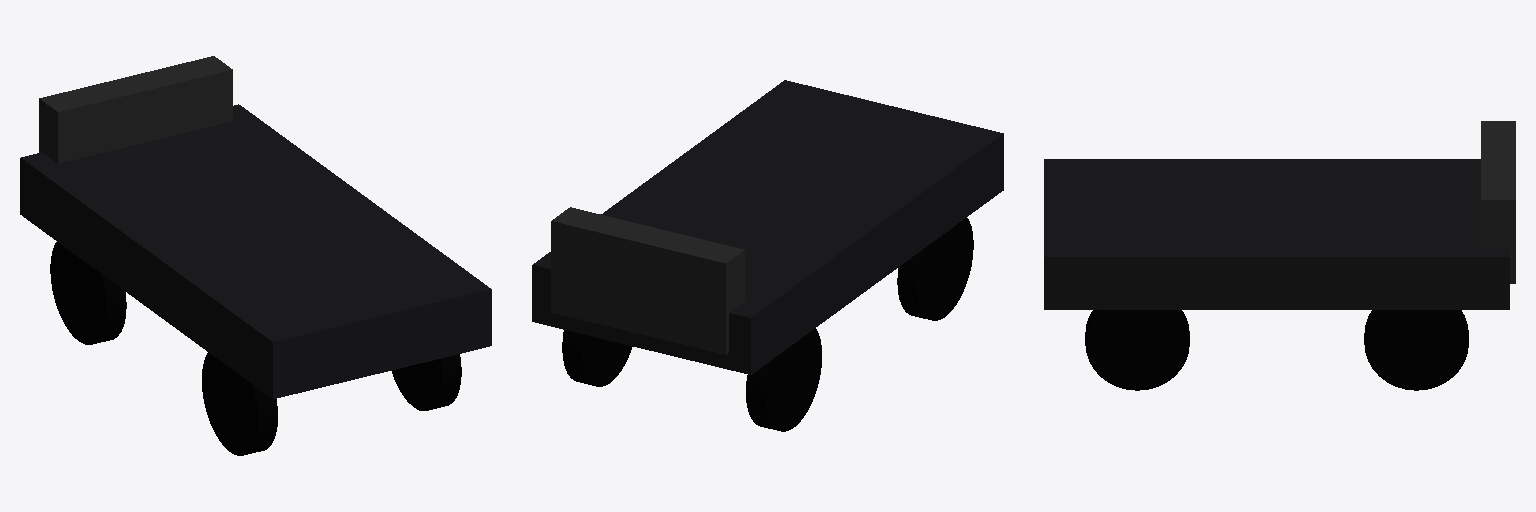
The robot description file, URDF, robot "power_cart":
<?xml version="1.0"?>
<robot name="power_cart">
  <link name="base_link">
    <inertial>
      <origin xyz="0 0 0" rpy="0 0 0" />
      <mass value="800" />
      <inertia ixx="1200" ixy="0" ixz="0" iyy="500" iyz="0" izz="1200" />
    </inertial>
    <visual>
      <origin xyz="0 0 0.15" rpy="0 0 0" />
      <geometry>
        <box size="2.0 4.0 0.5" />
      </geometry>
      <material name="cart_dark">
        <color rgba="0.12 0.12 0.13 1" />
      </material>
    </visual>
    <collision>
      <origin xyz="0 0 0.15" rpy="0 0 0" />
      <geometry>
        <box size="2.0 4.0 0.5" />
      </geometry>
    </collision>
    <visual>
      <origin xyz="0 1.9 0.45" rpy="0 0 0" />
      <geometry>
        <box size="1.6 0.3 0.8" />
      </geometry>
      <material name="cart_buffer">
        <color rgba="0.18 0.18 0.18 1" />
      </material>
    </visual>
    <collision>
      <origin xyz="0 1.9 0.45" rpy="0 0 0" />
      <geometry>
        <box size="1.6 0.3 0.8" />
      </geometry>
    </collision>
  </link>

  <link name="front_left_wheel">
    <visual>
      <origin xyz="0 0 0" rpy="0 1.5708 0" />
      <geometry>
        <cylinder radius="0.45" length="0.18" />
      </geometry>
      <material name="wheel_dark">
        <color rgba="0.03 0.03 0.03 1" />
      </material>
    </visual>
    <collision>
      <origin xyz="0 0 0" rpy="0 1.5708 0" />
      <geometry>
        <cylinder radius="0.45" length="0.18" />
      </geometry>
    </collision>
    <inertial>
      <mass value="20" />
      <inertia ixx="2" ixy="0" ixz="0" iyy="2" iyz="0" izz="2" />
    </inertial>
  </link>
  <link name="front_right_wheel">
    <visual>
      <origin xyz="0 0 0" rpy="0 1.5708 0" />
      <geometry>
        <cylinder radius="0.45" length="0.18" />
      </geometry>
      <material name="wheel_dark" />
    </visual>
    <collision>
      <origin xyz="0 0 0" rpy="0 1.5708 0" />
      <geometry>
        <cylinder radius="0.45" length="0.18" />
      </geometry>
    </collision>
    <inertial>
      <mass value="20" />
      <inertia ixx="2" ixy="0" ixz="0" iyy="2" iyz="0" izz="2" />
    </inertial>
  </link>
  <link name="rear_left_wheel">
    <visual>
      <origin xyz="0 0 0" rpy="0 1.5708 0" />
      <geometry>
        <cylinder radius="0.45" length="0.18" />
      </geometry>
      <material name="wheel_dark" />
    </visual>
    <collision>
      <origin xyz="0 0 0" rpy="0 1.5708 0" />
      <geometry>
        <cylinder radius="0.45" length="0.18" />
      </geometry>
    </collision>
    <inertial>
      <mass value="20" />
      <inertia ixx="2" ixy="0" ixz="0" iyy="2" iyz="0" izz="2" />
    </inertial>
  </link>
  <link name="rear_right_wheel">
    <visual>
      <origin xyz="0 0 0" rpy="0 1.5708 0" />
      <geometry>
        <cylinder radius="0.45" length="0.18" />
      </geometry>
      <material name="wheel_dark" />
    </visual>
    <collision>
      <origin xyz="0 0 0" rpy="0 1.5708 0" />
      <geometry>
        <cylinder radius="0.45" length="0.18" />
      </geometry>
    </collision>
    <inertial>
      <mass value="20" />
      <inertia ixx="2" ixy="0" ixz="0" iyy="2" iyz="0" izz="2" />
    </inertial>
  </link>

  <joint name="front_left_wheel_joint" type="continuous">
    <origin xyz="-0.84 1.2 -0.45" rpy="0 0 0" />
    <parent link="base_link" />
    <child link="front_left_wheel" />
    <axis xyz="1 0 0" />
  </joint>
  <joint name="front_right_wheel_joint" type="continuous">
    <origin xyz="0.84 1.2 -0.45" rpy="0 0 0" />
    <parent link="base_link" />
    <child link="front_right_wheel" />
    <axis xyz="1 0 0" />
  </joint>
  <joint name="rear_left_wheel_joint" type="continuous">
    <origin xyz="-0.84 -1.2 -0.45" rpy="0 0 0" />
    <parent link="base_link" />
    <child link="rear_left_wheel" />
    <axis xyz="1 0 0" />
  </joint>
  <joint name="rear_right_wheel_joint" type="continuous">
    <origin xyz="0.84 -1.2 -0.45" rpy="0 0 0" />
    <parent link="base_link" />
    <child link="rear_right_wheel" />
    <axis xyz="1 0 0" />
  </joint>
</robot>

--- Facts derived from the render (not from the file) ---
The picture shows the robot from 3 angles, left to right: view 1: azimuth 30°, elevation 25°; view 2: azimuth 150°, elevation 25°; view 3: azimuth 270°, elevation 25°; orthographic projection.
Model power_cart with 5 links and 4 joints (4 continuous), rooted at base_link, posed all joints at 0.
Visible links, largest first — view 1: base_link, rear_left_wheel, front_left_wheel, rear_right_wheel; view 2: base_link, front_left_wheel, rear_left_wheel, front_right_wheel; view 3: base_link, rear_right_wheel, front_right_wheel.
Link boxes in pixels (x1,y1,x2,y2): base_link: (20, 56, 491, 398); rear_left_wheel: (202, 352, 277, 455); front_left_wheel: (50, 242, 126, 344); rear_right_wheel: (392, 354, 461, 410); base_link: (532, 80, 1003, 374); front_left_wheel: (746, 328, 821, 431); rear_left_wheel: (897, 218, 973, 320); front_right_wheel: (562, 330, 632, 386); base_link: (1044, 121, 1515, 309); rear_right_wheel: (1085, 310, 1189, 390); front_right_wheel: (1364, 310, 1468, 390).
Bounding box of the posed robot: 2 × 4.05 × 1.75 m (x, y, z).
Geometry: primitives only (box / cylinder / sphere), no mesh files.
